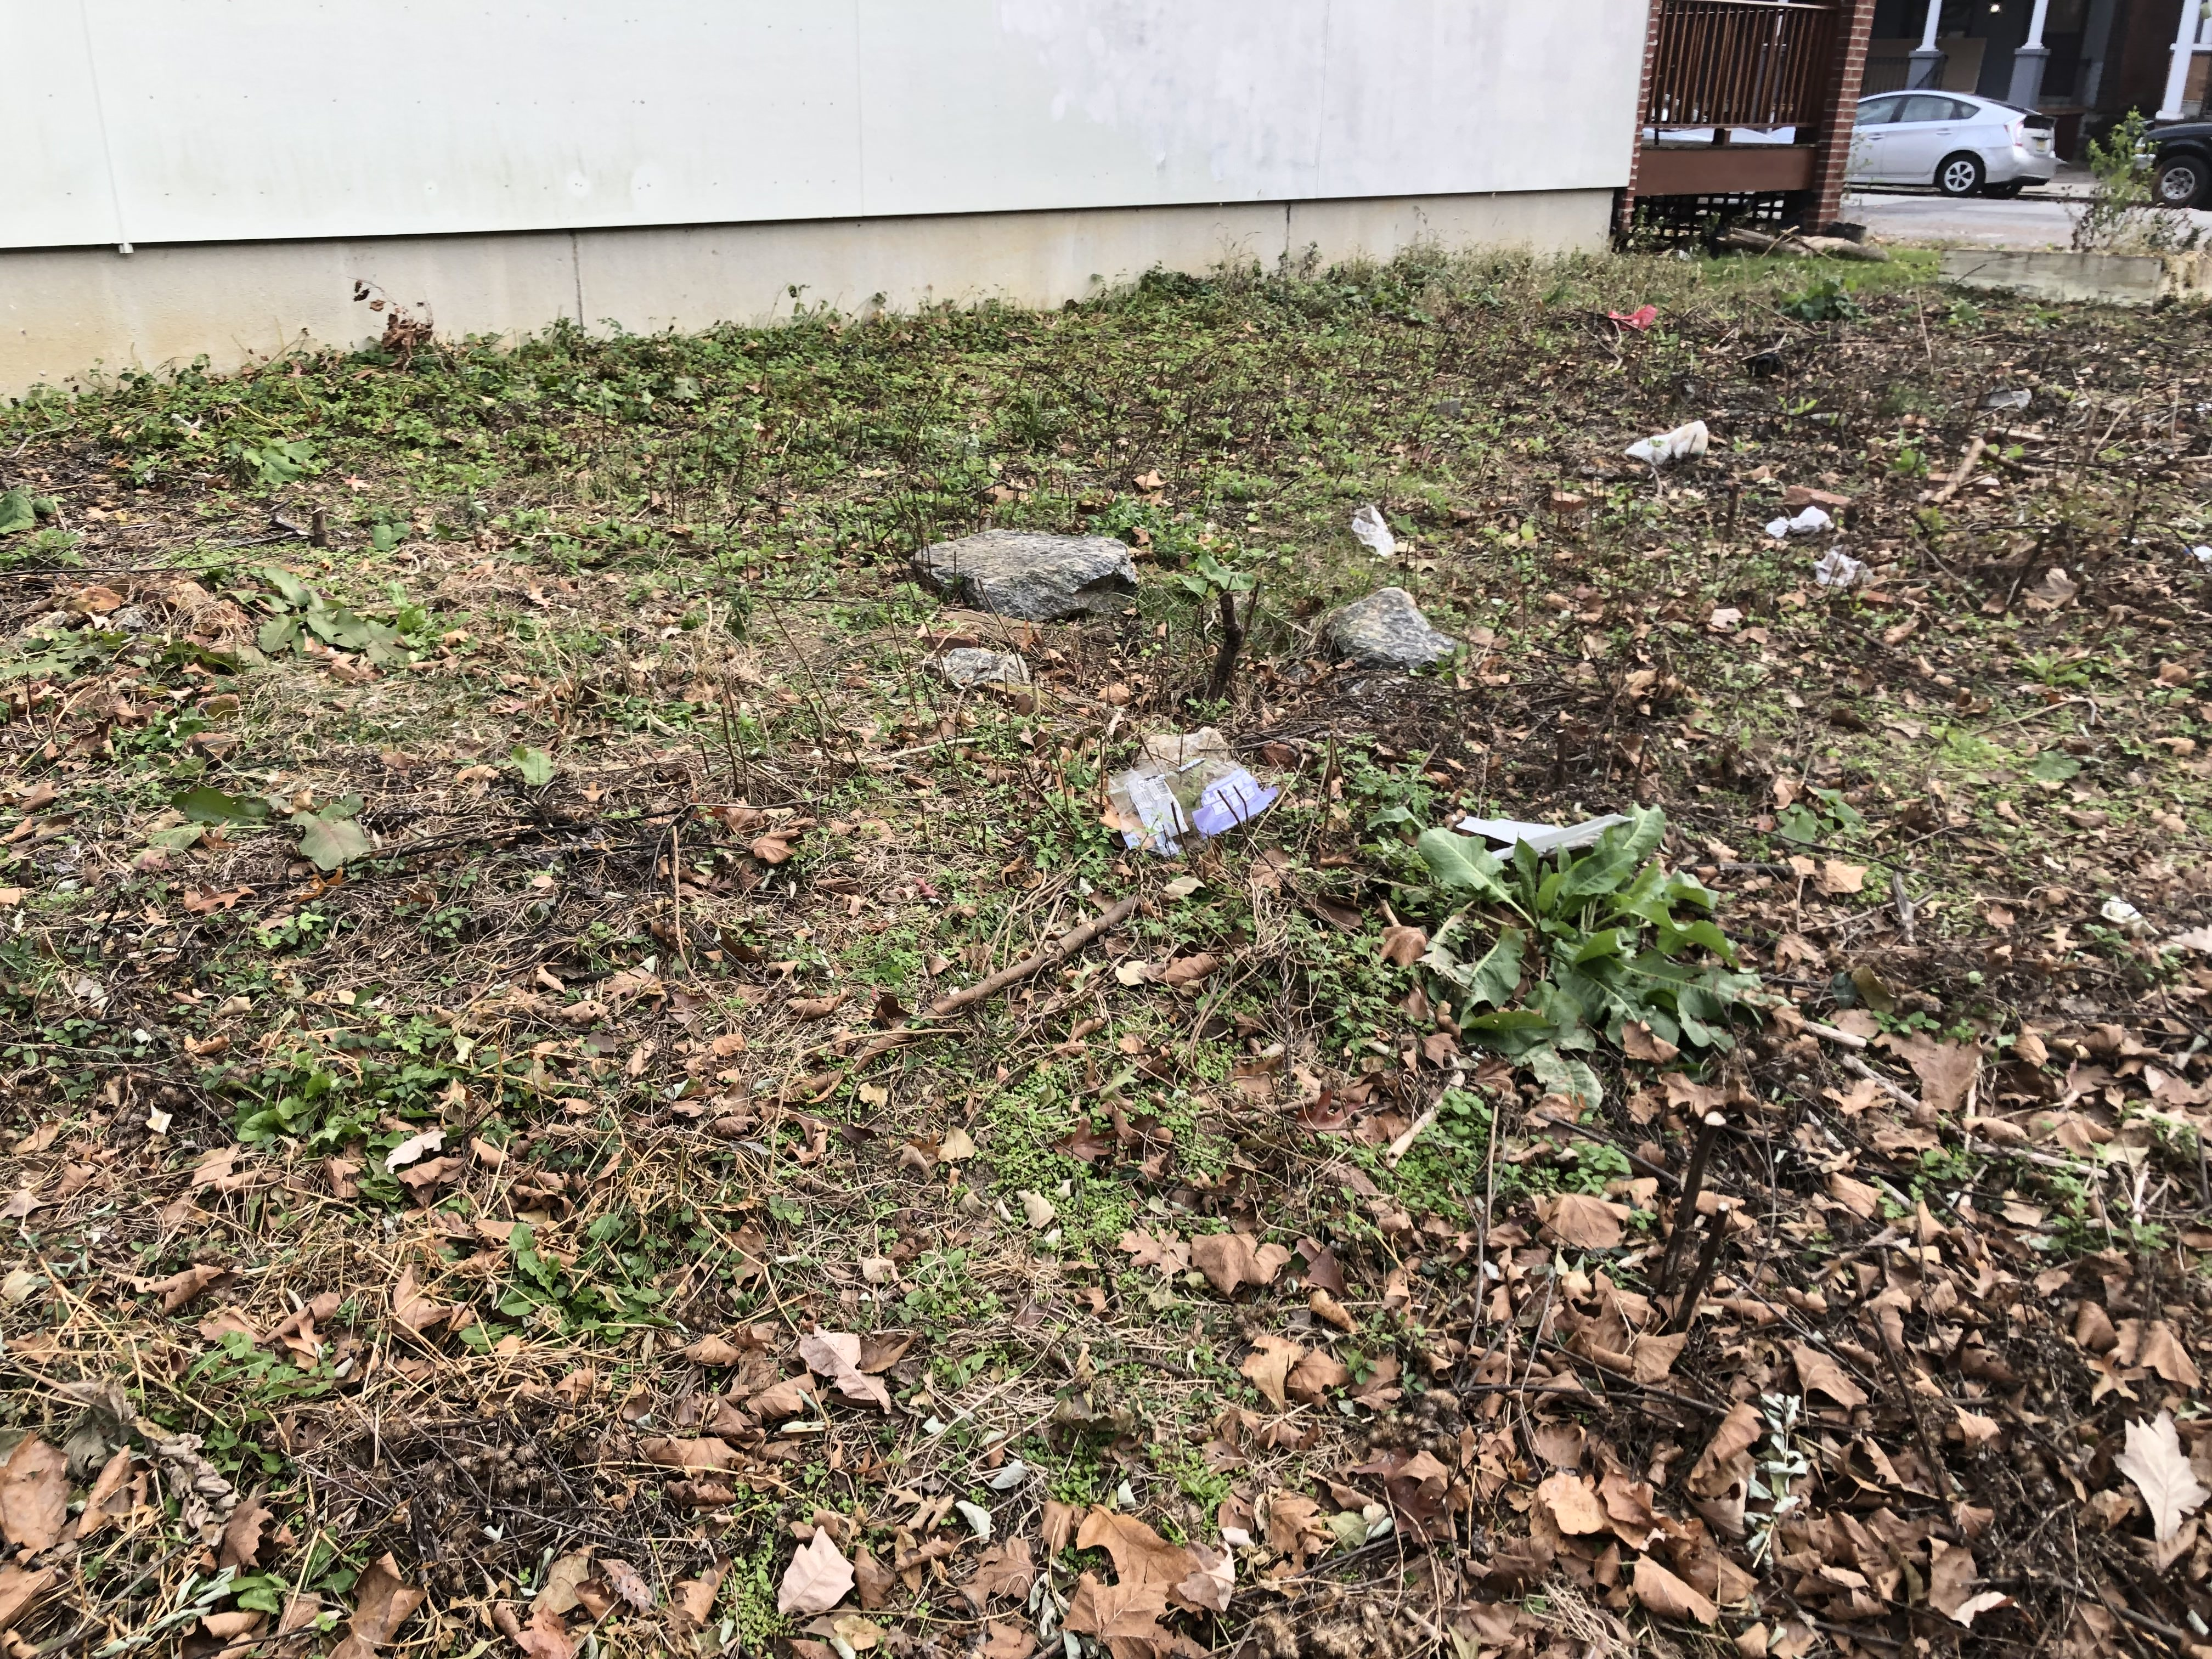good_lawn: (103, 420, 1881, 1513)
rough_lawn: (894, 495, 1172, 660)
trash: (1078, 760, 1327, 857), (1282, 580, 1465, 674)
